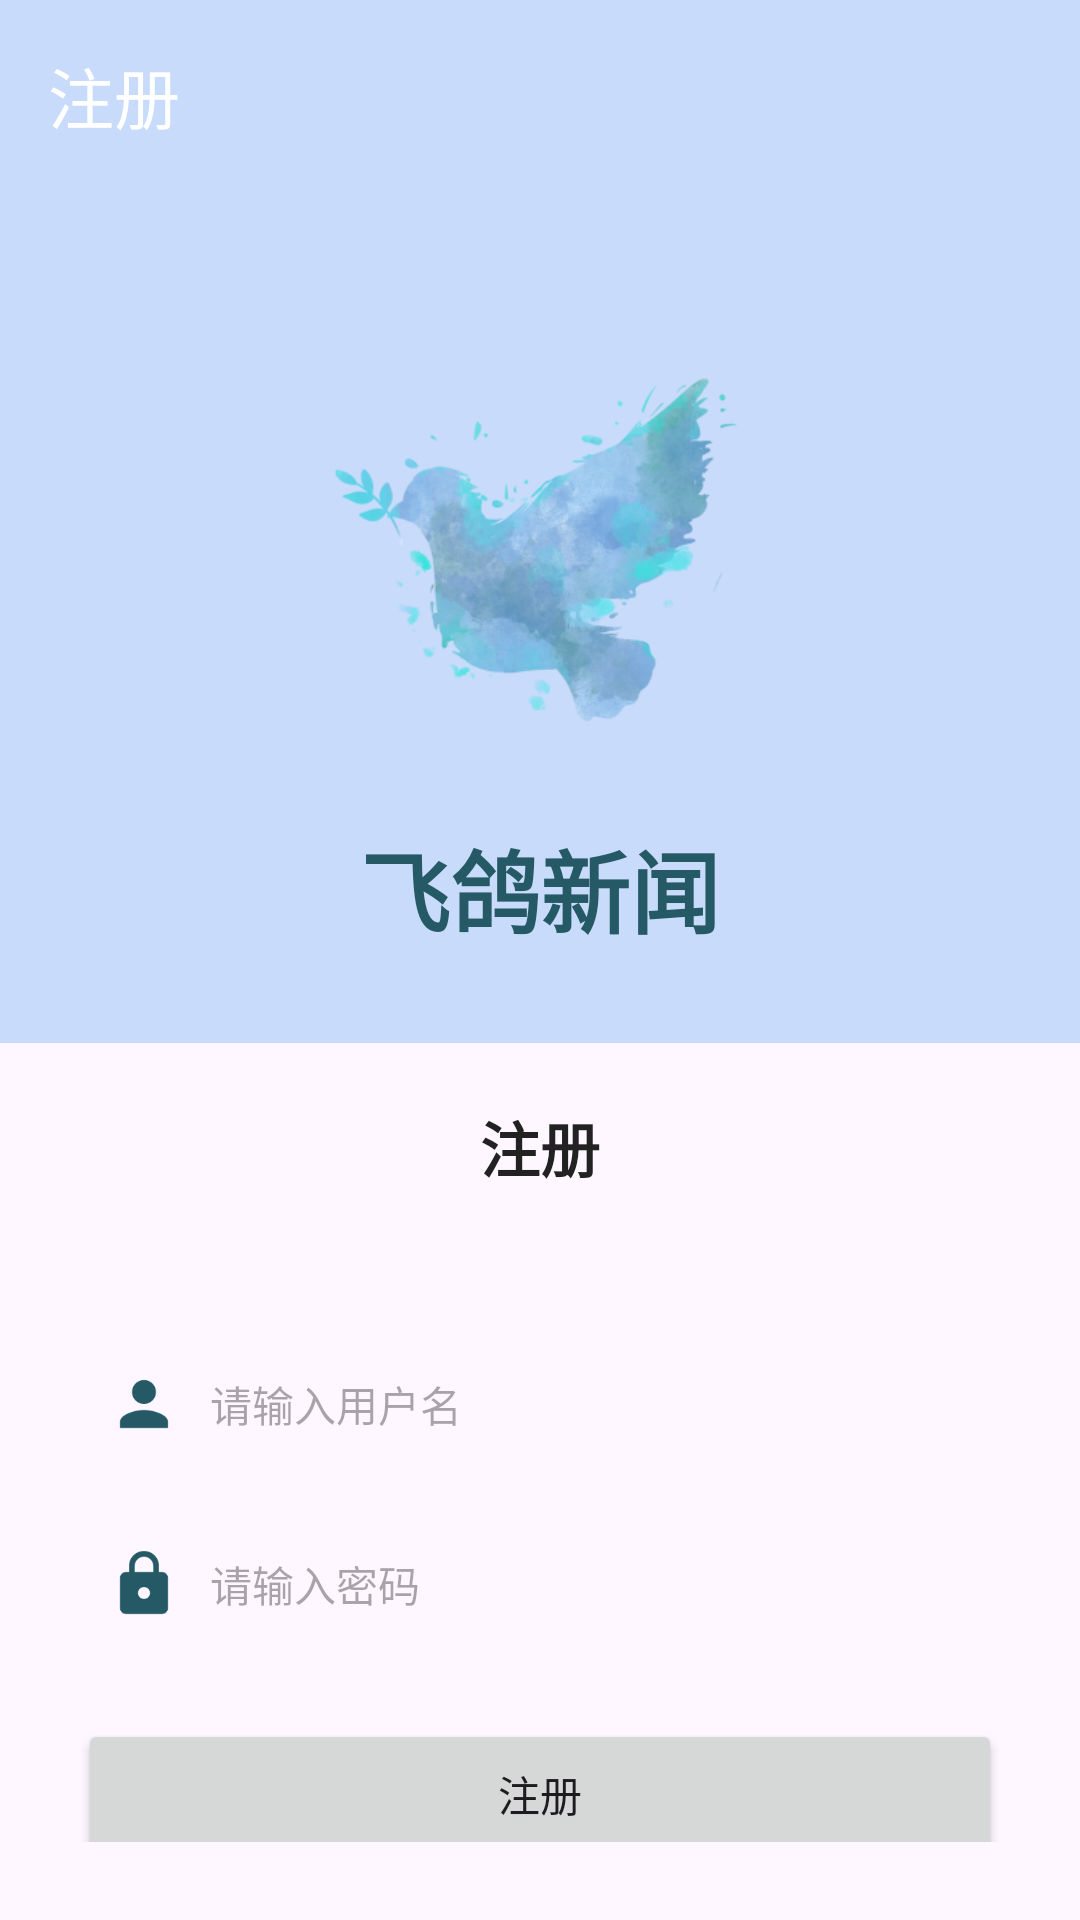

Where to tap for icons on this 1080×1920 app screen, as [x,y]:
lock: [144,1582]
person: [144,1404]
